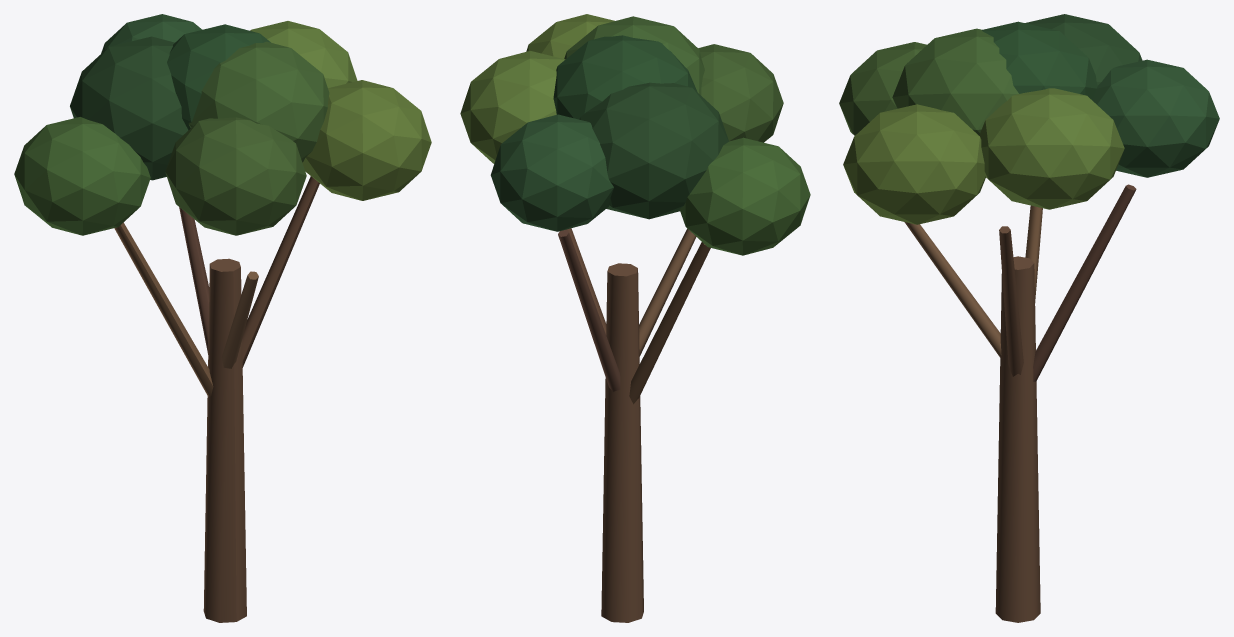
Rendered from broadleaf-irregular.mid.glb.
The picture shows the model from 3 angles, left to right: view 1: azimuth 30°, elevation 25°; view 2: azimuth 150°, elevation 25°; view 3: azimuth 270°, elevation 25°; orthographic projection.
Parts seen in each view (by area): view 1: foliage, wood; view 2: foliage, wood; view 3: foliage, wood.
Boxes of the visible parts, x1,y1,x2,y2 form: foliage: (14, 14, 431, 235); wood: (114, 176, 319, 622); foliage: (460, 14, 810, 255); wood: (558, 228, 710, 622); foliage: (839, 14, 1219, 224); wood: (904, 184, 1136, 622).
Size of the model in its own units: 4.23 by 7 by 4.14.
